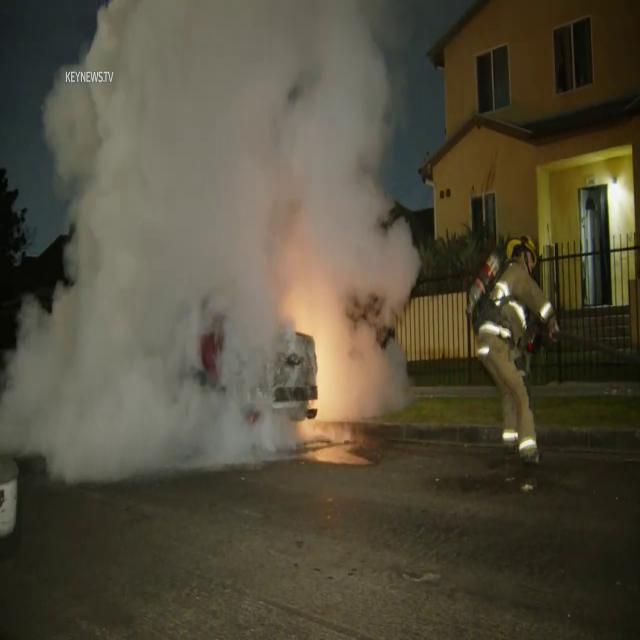Smoke: (0, 1, 435, 494)
